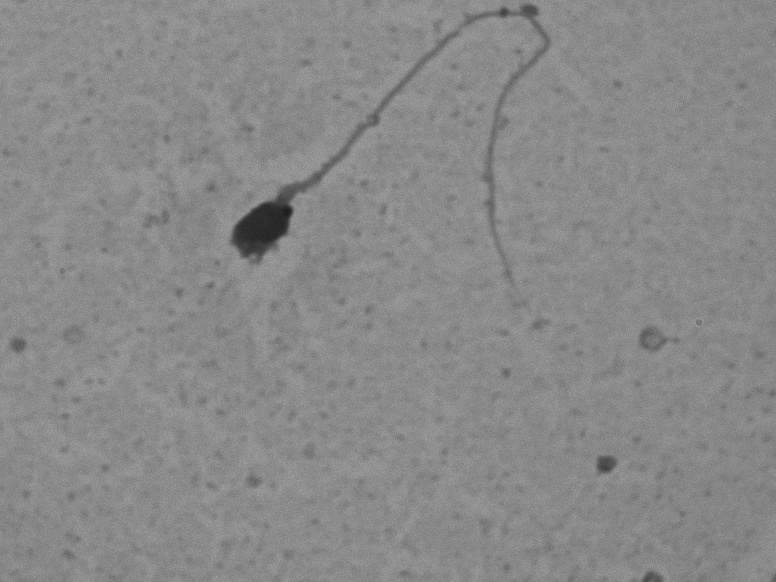Abnormal: (159, 5, 594, 303)
